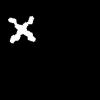single_crochet: (8, 16, 34, 42)
